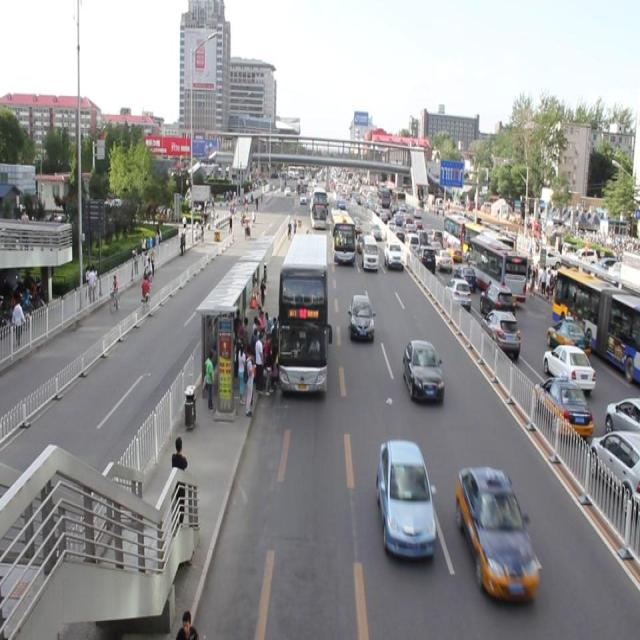car: (453, 467, 538, 594), (377, 438, 434, 560), (402, 335, 442, 402), (348, 292, 373, 337), (383, 242, 401, 271), (369, 222, 380, 242), (356, 234, 368, 251), (350, 215, 360, 235), (336, 195, 344, 210)
truck: (361, 234, 377, 269)
van: (279, 233, 326, 392), (330, 207, 353, 262), (310, 189, 325, 229)
